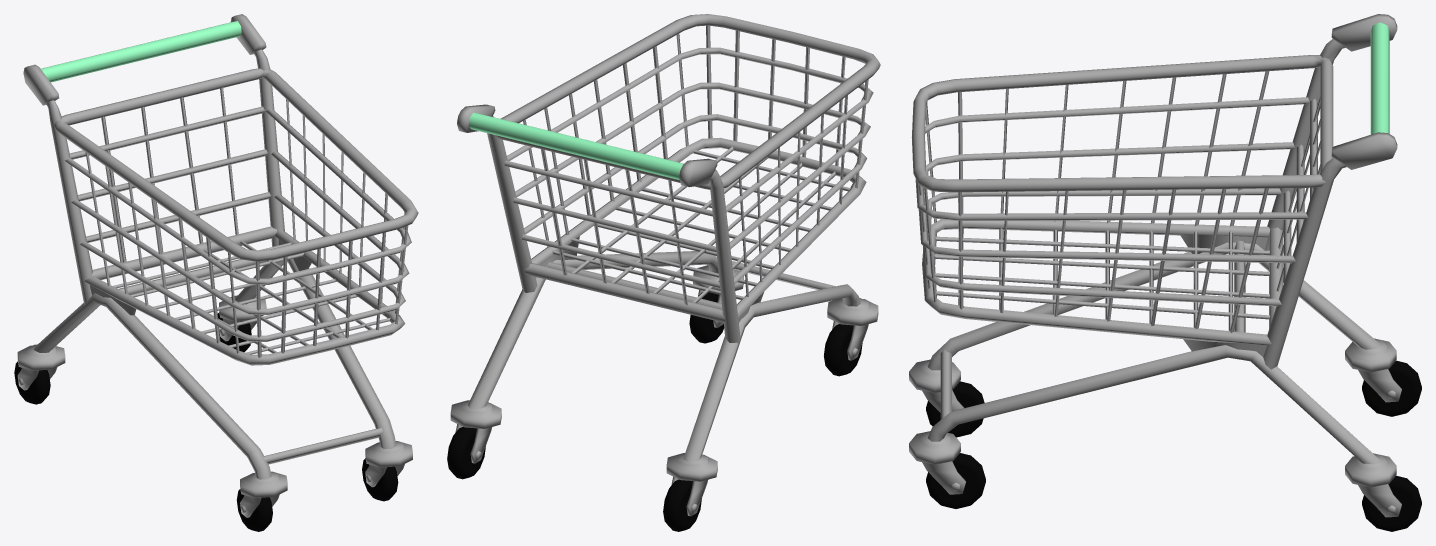
The model's file is alsverisepeti.fbx.
The picture shows the model from 3 angles, left to right: view 1: azimuth 30°, elevation 25°; view 2: azimuth 150°, elevation 25°; view 3: azimuth 270°, elevation 25°; orthographic projection. The views are drawn at different scales.
Parts seen in each view (by area): view 1: Einkaufswagen; view 2: Einkaufswagen; view 3: Einkaufswagen.
Boxes of the visible parts, bbox=[...] form: Einkaufswagen: bbox=[14, 14, 418, 531]; Einkaufswagen: bbox=[447, 14, 880, 531]; Einkaufswagen: bbox=[909, 14, 1421, 531].
Bounding box in the file's own units: 1270 × 1670 × 1953.
